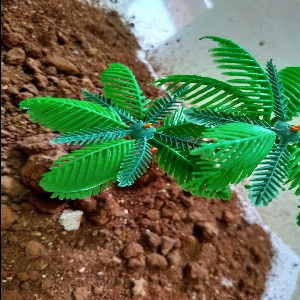plant: (17, 35, 300, 207)
